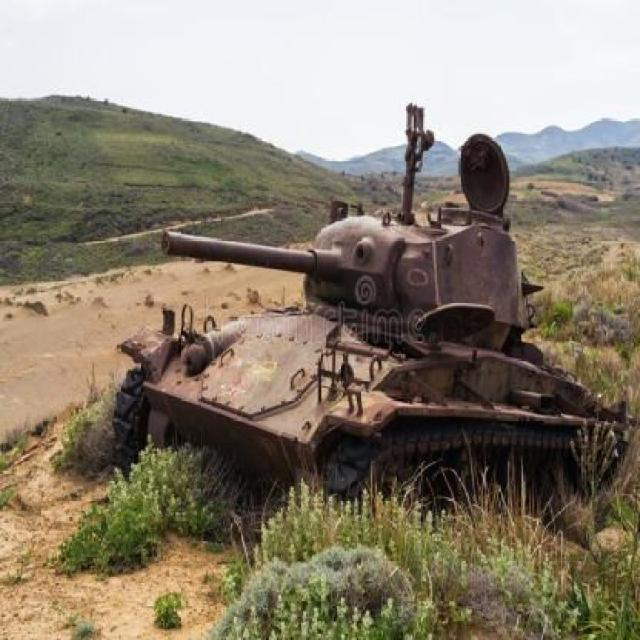corrosion: (111, 93, 628, 565)
